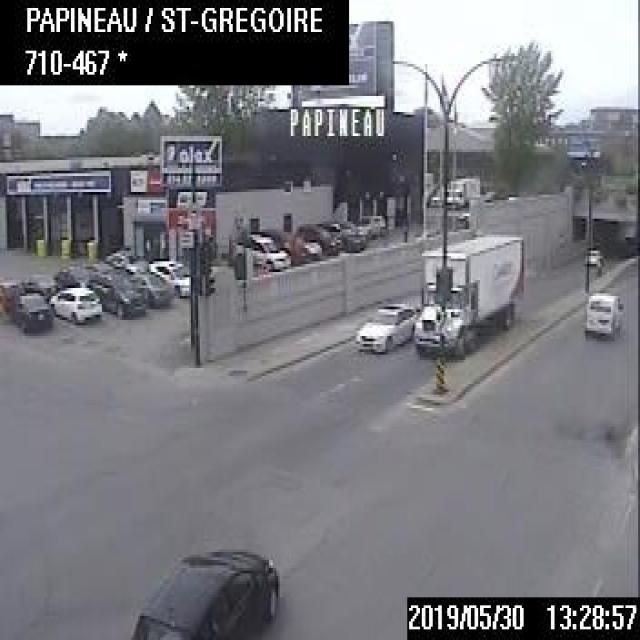vehicle: (408, 229, 524, 356), (126, 542, 276, 638), (352, 299, 416, 358), (91, 272, 146, 320), (230, 231, 290, 271), (48, 282, 103, 324), (582, 286, 622, 334), (125, 268, 170, 310), (10, 291, 53, 332), (144, 258, 188, 298), (270, 230, 322, 263), (294, 220, 340, 256), (325, 214, 363, 252), (444, 172, 479, 207), (352, 210, 387, 240), (18, 270, 58, 296), (54, 262, 91, 286), (580, 245, 602, 267)
